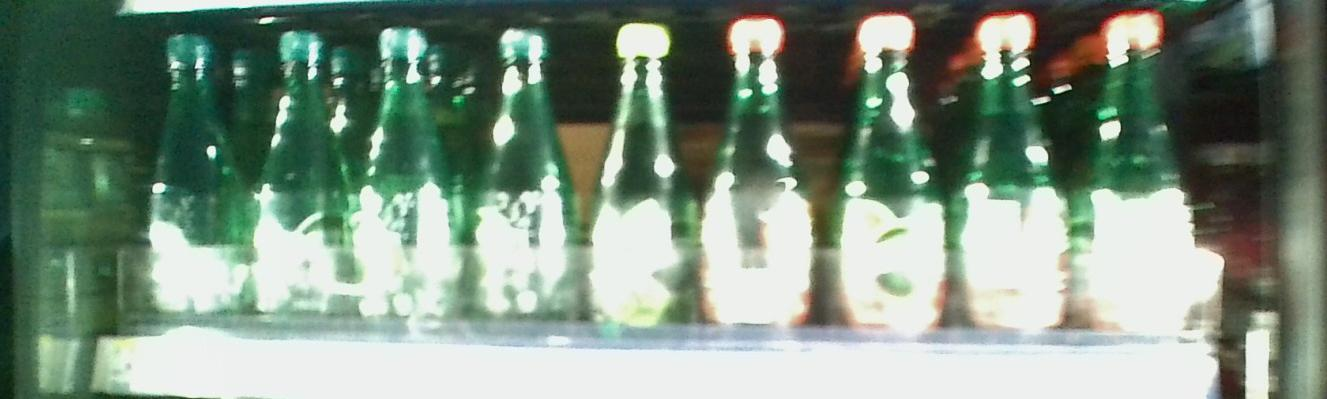bottle: (703, 13, 823, 331), (466, 18, 578, 344), (835, 18, 950, 333), (961, 14, 1072, 338), (1088, 10, 1197, 337), (592, 11, 697, 334), (350, 24, 456, 328), (146, 28, 243, 317), (250, 26, 337, 326)
